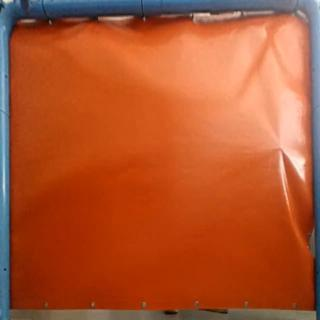Hit-hRxx: (273, 142, 285, 154)
